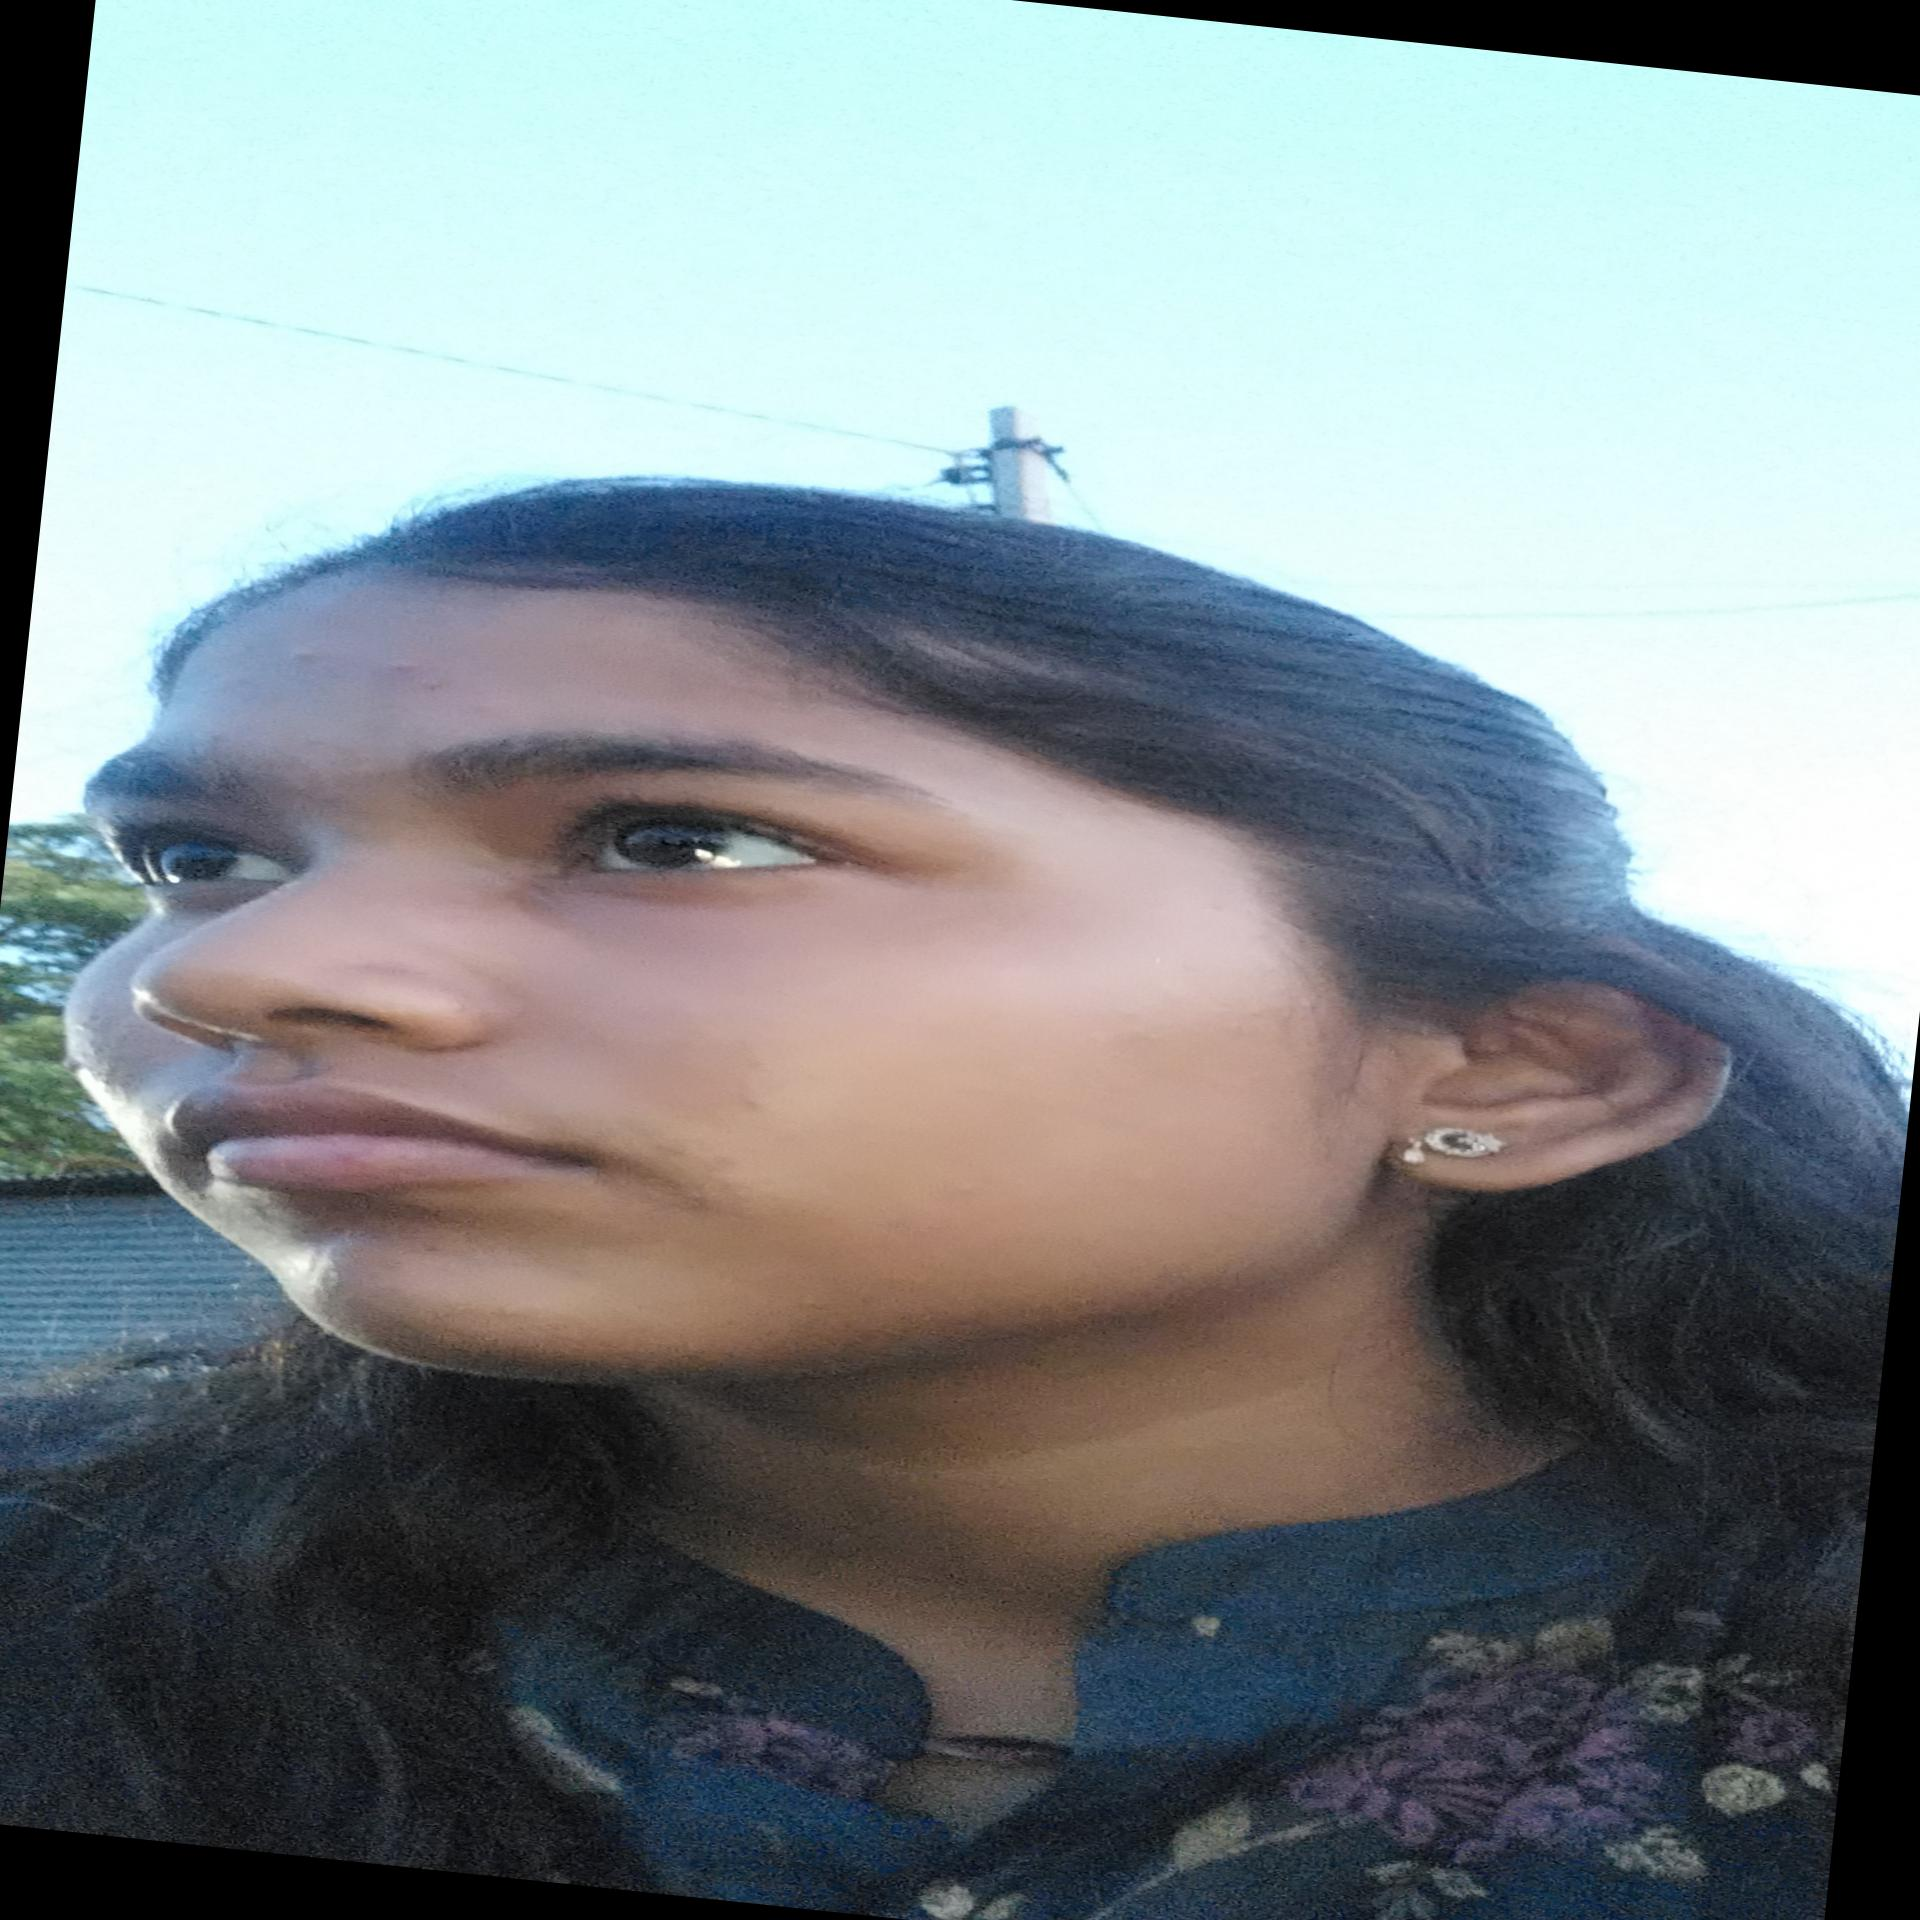Acne: (672, 1183, 719, 1211), (93, 1060, 128, 1095), (484, 1299, 536, 1322), (375, 656, 431, 677), (281, 645, 327, 666), (737, 1090, 772, 1111), (67, 1022, 97, 1037)
